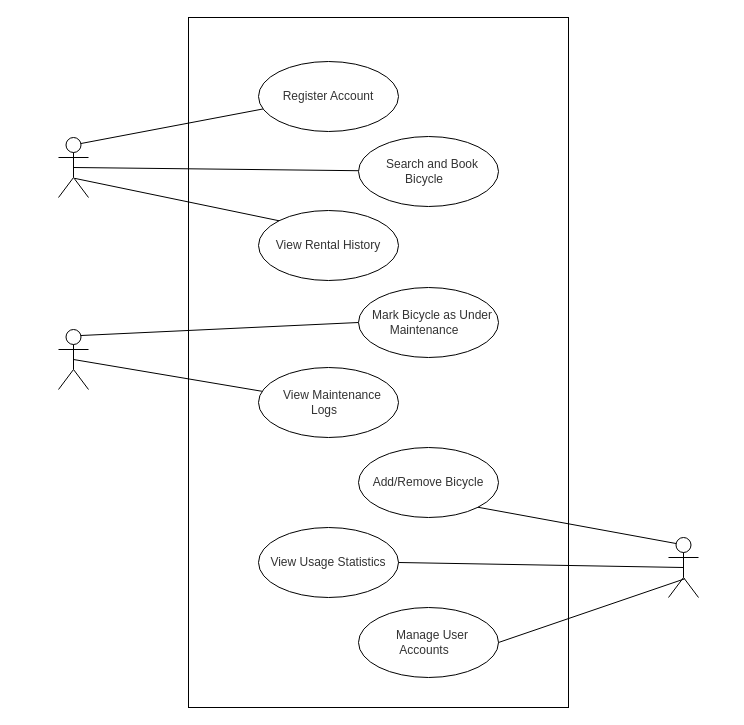
Image size: 744x725. Some labels were removed from this diagram. Each missing label, with the box of its shape:
Administrator: (668, 536, 698, 598)
Bicycle-Ride System: (188, 16, 568, 708)
Customer: (58, 136, 88, 198)
Maintenance Staff: (58, 328, 88, 390)
